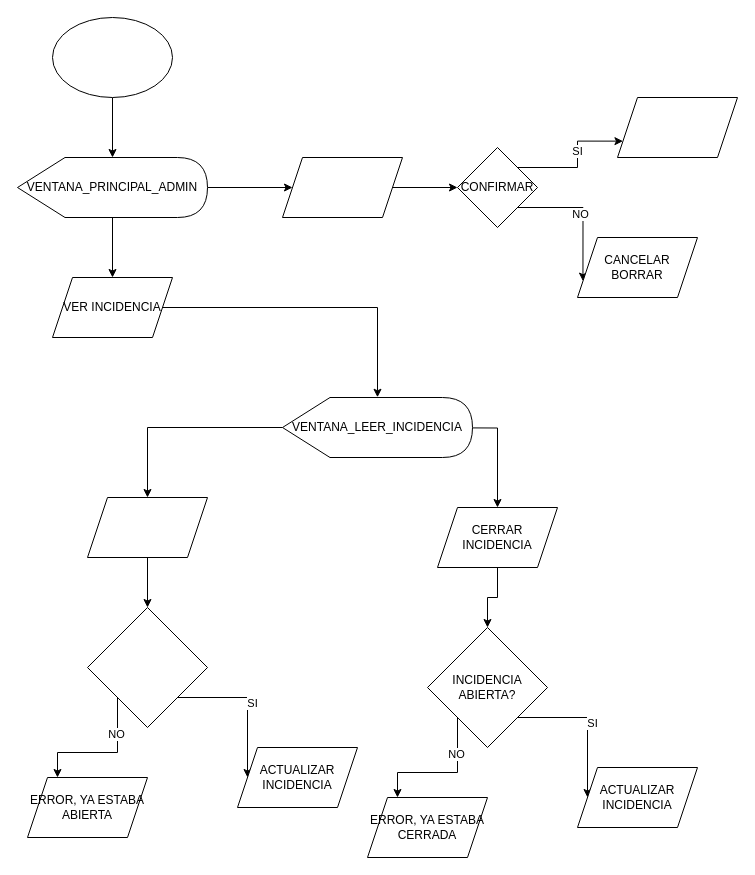
This 755x875 diagram has some shape labels left out. The shapes that lost their labels are listed below. From the top down, each one's centre as x and y in pixels, then its label:
point 112,57: INICIO
point 677,127: PROCEDER CON EL BORRADO
point 342,187: BORRAR INCIDENCIA
point 147,527: ABRIR INCIDENCIA
point 147,667: INCIDENCIA CERRADA?
